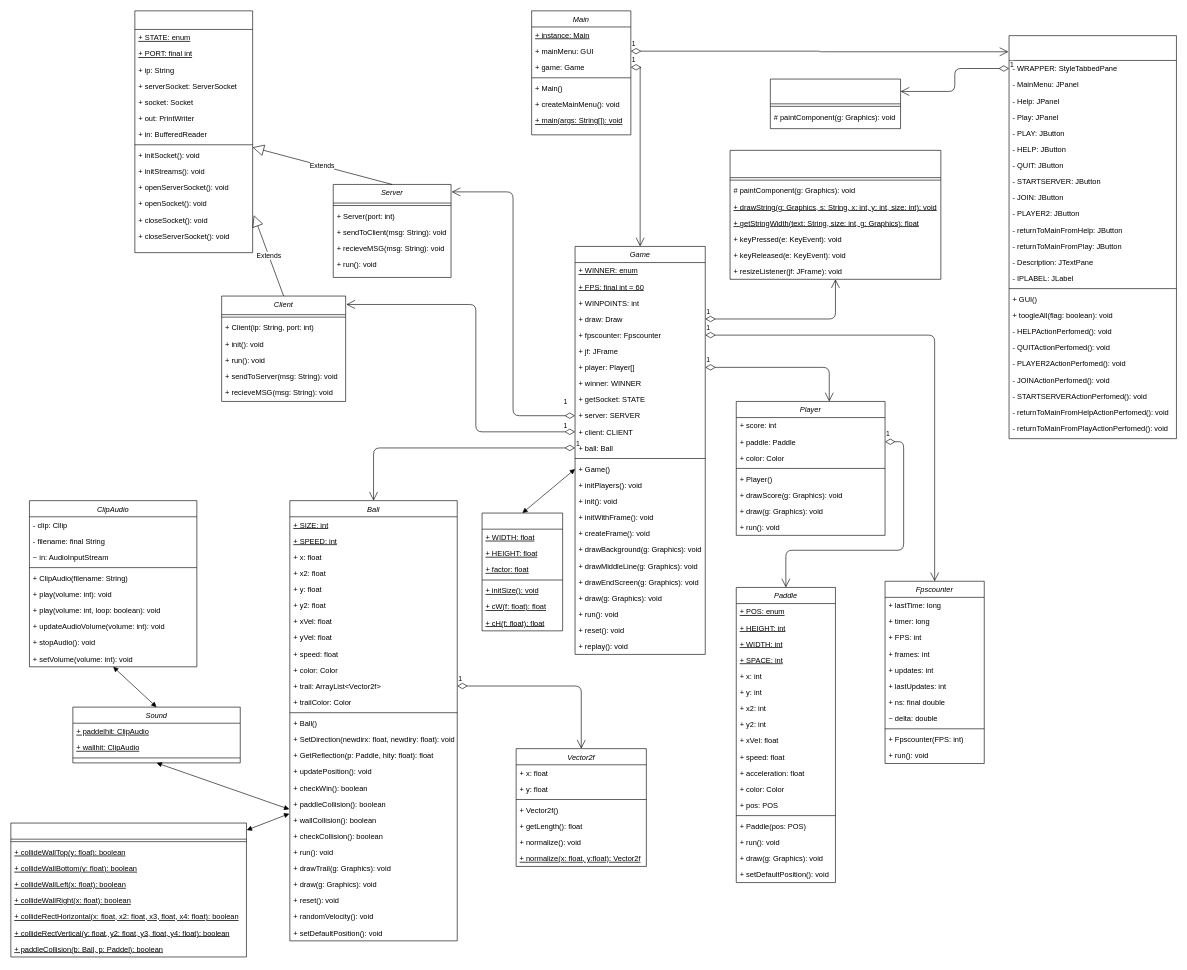
Image size: 1187x970. Some labels were removed from this diagram. The shapes that lost their labels are listed below. From the top down, each one's box as (x1, y1, x2, y2) in pixels, then its label:
(770, 78, 901, 129): StyleTabbedPane extends JFrame
(134, 10, 253, 253): Network
(729, 150, 941, 279): Draw extends JLabel implements KeyListener
(1008, 35, 1176, 439): GUI extends JFrame
(481, 512, 563, 631): Frame
(10, 822, 246, 957): Collisions
